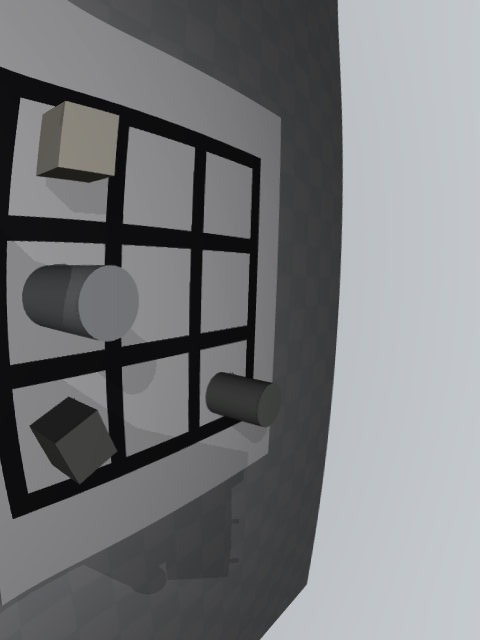can: (22, 265, 139, 342)
cube: (30, 397, 117, 484)
cylinder: (205, 372, 281, 427)
foam: (36, 101, 119, 183)
